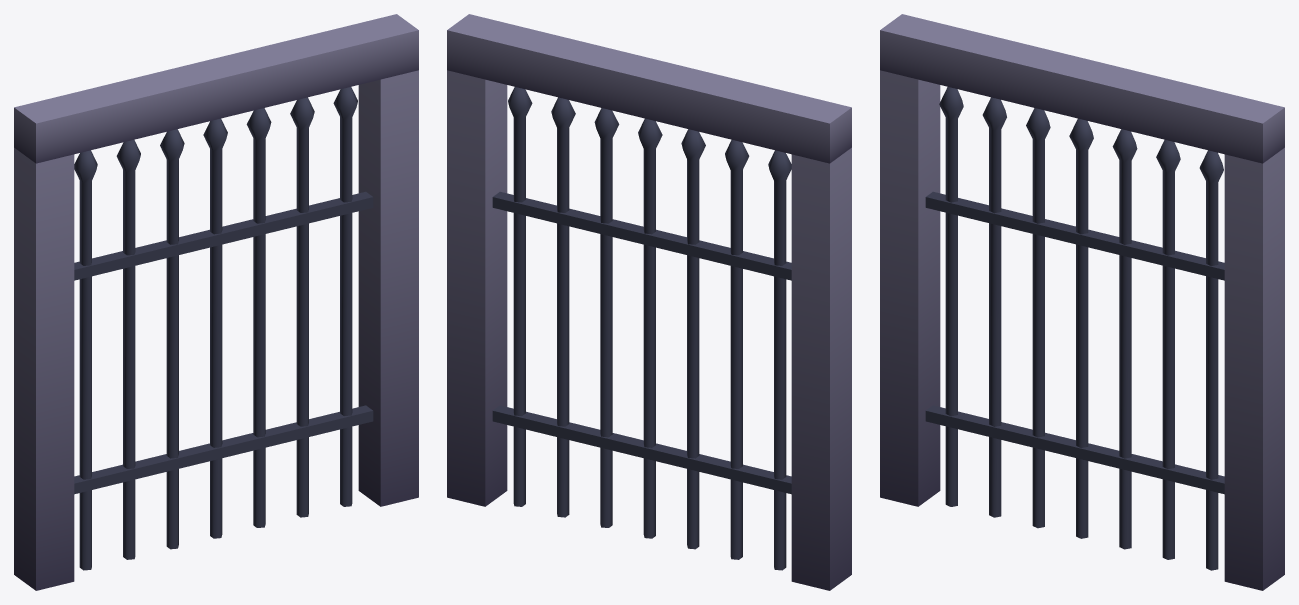
Rendered from dun_gate.glb.
3 renders of one model, left to right at view 1: azimuth 30°, elevation 25°; view 2: azimuth 150°, elevation 25°; view 3: azimuth 330°, elevation 25°, orthographic.
Parts seen in each view (by area): view 1: dun_gate; view 2: dun_gate; view 3: dun_gate.
Boxes of the visible parts, x1,y1,x2,y2 form: dun_gate: [14, 14, 418, 590]; dun_gate: [447, 14, 851, 590]; dun_gate: [880, 14, 1284, 590].
Size of the model in its own units: 3 by 3.5 by 0.3.
